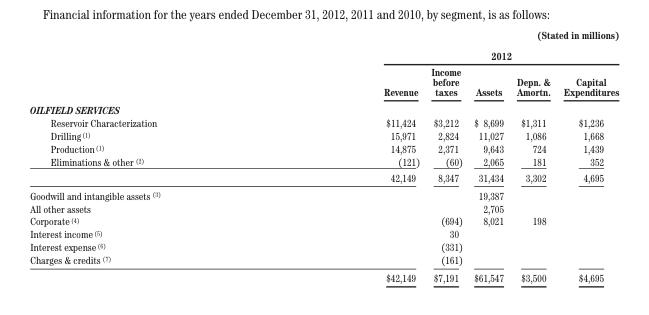table: (29, 28, 618, 283)
table column: (29, 28, 271, 283), (271, 28, 424, 283), (556, 28, 618, 283), (509, 28, 556, 283), (424, 28, 467, 283), (467, 28, 509, 283)
table column header: (29, 28, 618, 100)
table projected row header: (29, 100, 618, 116)
table row: (29, 63, 618, 100), (29, 45, 618, 63), (29, 28, 618, 45), (29, 100, 618, 116), (29, 169, 618, 185), (29, 185, 618, 201), (29, 154, 618, 169), (29, 253, 618, 268), (29, 268, 618, 283), (29, 116, 618, 129), (29, 129, 618, 142), (29, 201, 618, 214), (29, 214, 618, 227), (29, 227, 618, 240), (29, 240, 618, 253), (29, 142, 618, 154)
table spanning cell: (271, 45, 618, 63), (509, 28, 618, 45)
